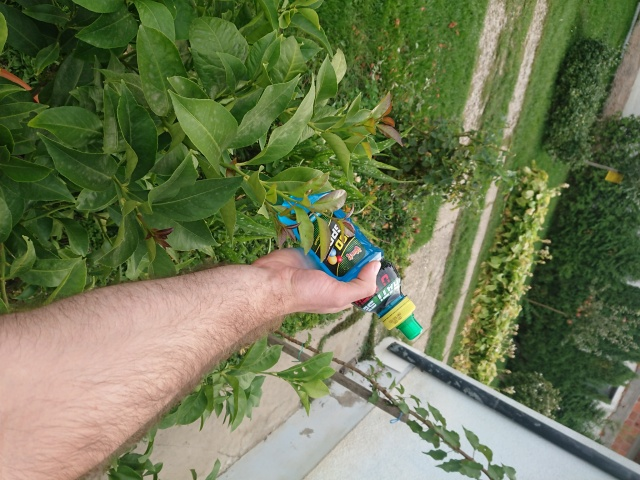Vindi Iso Sport Forest Strawberries 500mL: (272, 174, 424, 342)
